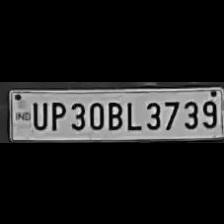0: (86, 98, 104, 130)
3: (141, 97, 161, 129), (180, 96, 198, 130), (67, 98, 85, 130)
7: (162, 97, 178, 129)
9: (198, 96, 218, 128)
B: (104, 97, 124, 129)
L: (124, 97, 140, 129)
P: (48, 98, 66, 130)
U: (29, 98, 47, 130)
